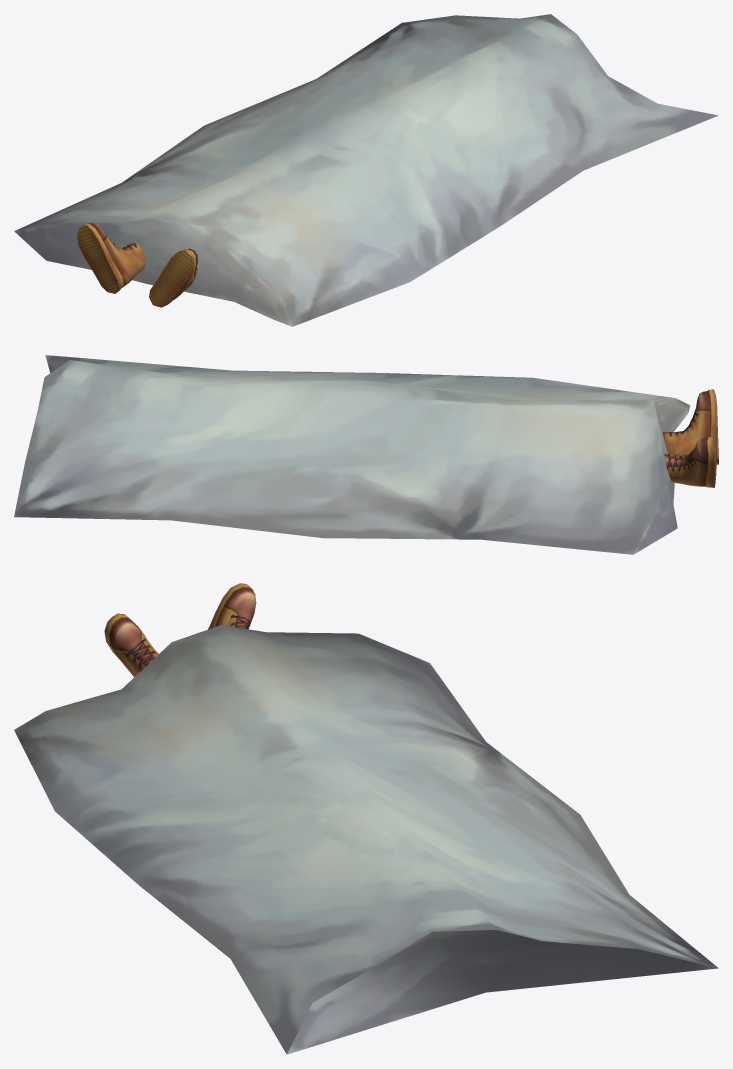
The model's file is SiWangPenQuan_01_shiti_01.FBX.
3 views of the same model, one above another, from view 1: azimuth 30°, elevation 25°; view 2: azimuth 150°, elevation 25°; view 3: azimuth 270°, elevation 25° (orthographic). The views are drawn at different scales.
Parts seen in each view (by area): view 1: SiWangPenQuan_01_shiti_01; view 2: SiWangPenQuan_01_shiti_01; view 3: SiWangPenQuan_01_shiti_01.
Part boxes in pixels (x1=…): SiWangPenQuan_01_shiti_01: x1=14, y1=14, x2=718, y2=326; SiWangPenQuan_01_shiti_01: x1=14, y1=355, x2=718, y2=554; SiWangPenQuan_01_shiti_01: x1=14, y1=583, x2=718, y2=1054.
Size of the model in its own units: 1095 by 99.79 by 822.
